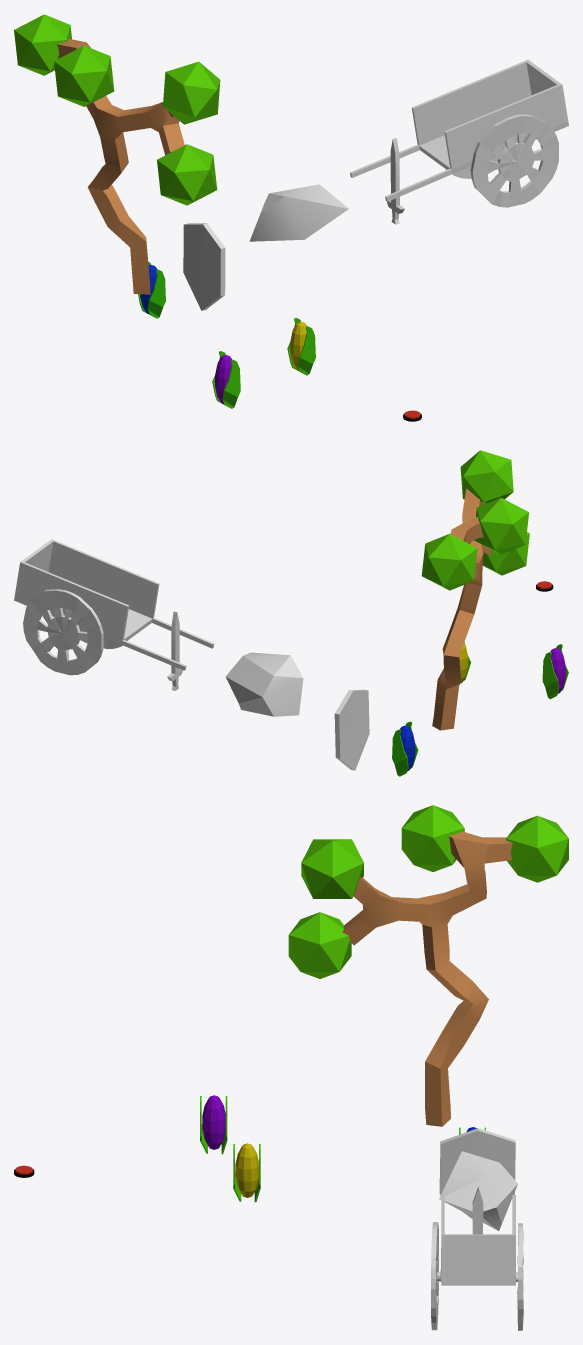
File: aless.fbx
3 renders of one model, top to bottom at view 1: azimuth 30°, elevation 25°; view 2: azimuth 150°, elevation 25°; view 3: azimuth 270°, elevation 25°, orthographic. The views are drawn at different scales.
Visible parts, largest first — view 1: Boom, kar, steen, Schild, Maisgeel, MaisPaars, MaisBlauw, Zwaard; view 2: kar, Boom, steen, Schild, MaisPaars, MaisBlauw, Zwaard; view 3: Boom, kar, steen, Schild, MaisPaars, Maisgeel.
Part boxes in pixels (<box>): Boom: <box>14,14,220,294</box>; kar: <box>350,59,568,207</box>; steen: <box>249,184,348,241</box>; Schild: <box>183,223,225,310</box>; Maisgeel: <box>287,318,315,375</box>; MaisPaars: <box>212,351,240,408</box>; MaisBlauw: <box>138,262,165,318</box>; Zwaard: <box>387,138,404,224</box>; kar: <box>14,539,214,675</box>; Boom: <box>421,450,529,730</box>; steen: <box>225,652,303,716</box>; Schild: <box>334,689,369,770</box>; MaisPaars: <box>542,644,568,699</box>; MaisBlauw: <box>392,721,418,776</box>; Zwaard: <box>167,611,182,690</box>; Boom: <box>288,805,568,1126</box>; kar: <box>431,1195,523,1330</box>; steen: <box>439,1151,517,1230</box>; Schild: <box>439,1128,515,1218</box>; MaisPaars: <box>200,1095,227,1154</box>; Maisgeel: <box>233,1143,260,1202</box>.
Bounding box in the file's own units: 574 × 336 × 492.
